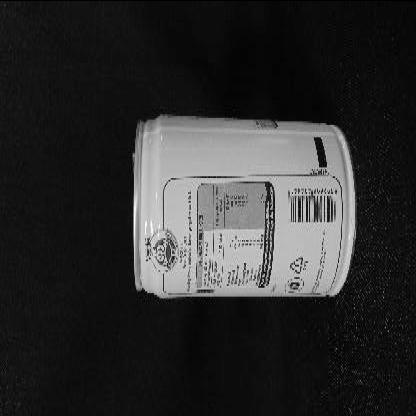alumunium_can: (132, 114, 357, 298)
